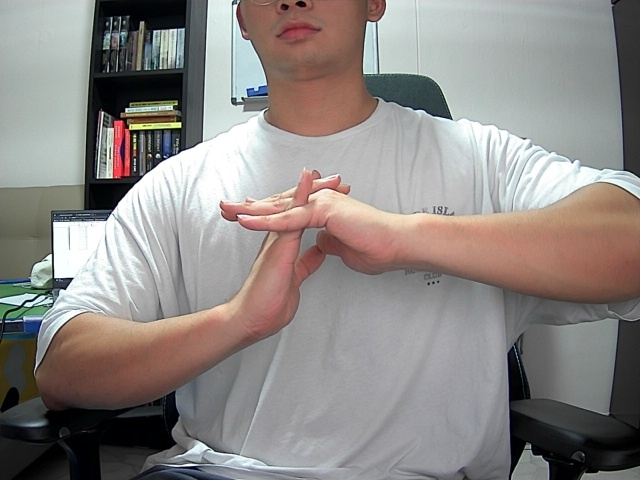Ox: (212, 155, 417, 347)
